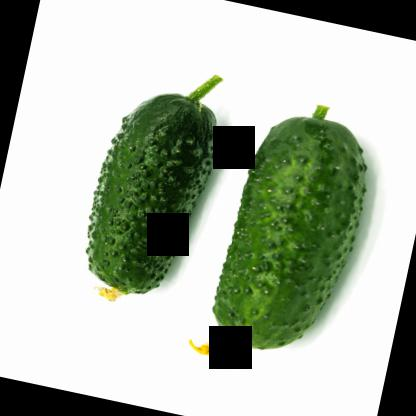cucumber: (203, 100, 388, 370), (68, 74, 231, 304)
